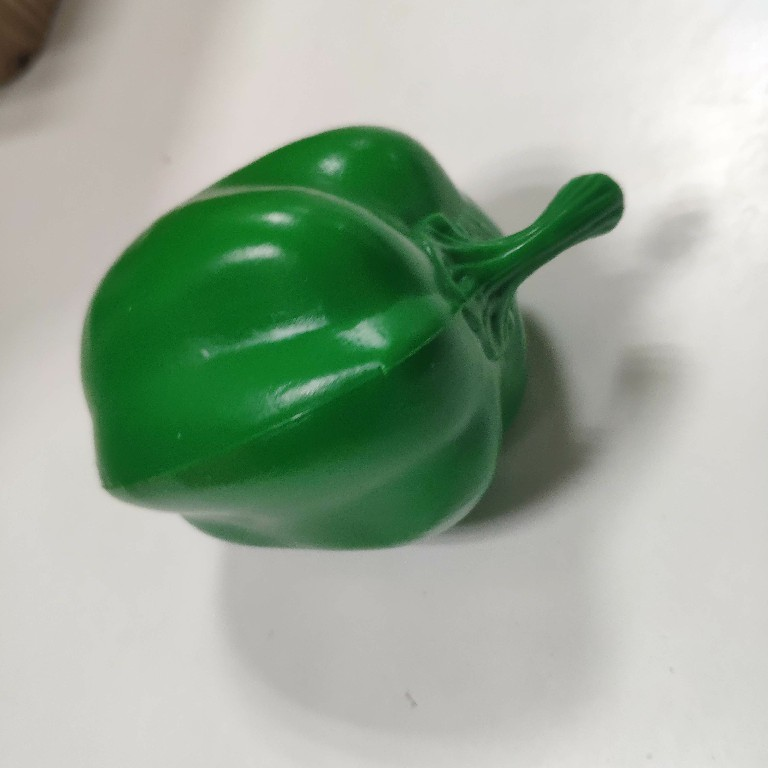fruit_pepper: (70, 119, 632, 558)
